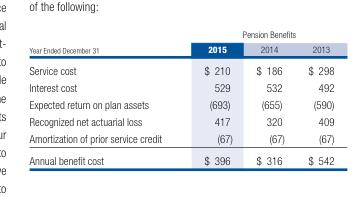table: (28, 28, 333, 165)
table column: (28, 28, 182, 165), (182, 28, 243, 165), (243, 28, 295, 165), (295, 28, 333, 165)
table column header: (28, 28, 333, 59)
table row: (28, 59, 333, 78), (28, 129, 333, 148), (28, 41, 333, 59), (28, 78, 333, 95), (28, 95, 333, 112), (28, 112, 333, 129), (28, 148, 333, 165), (28, 28, 333, 41)
table spanning cell: (28, 28, 182, 59), (182, 28, 333, 41)
